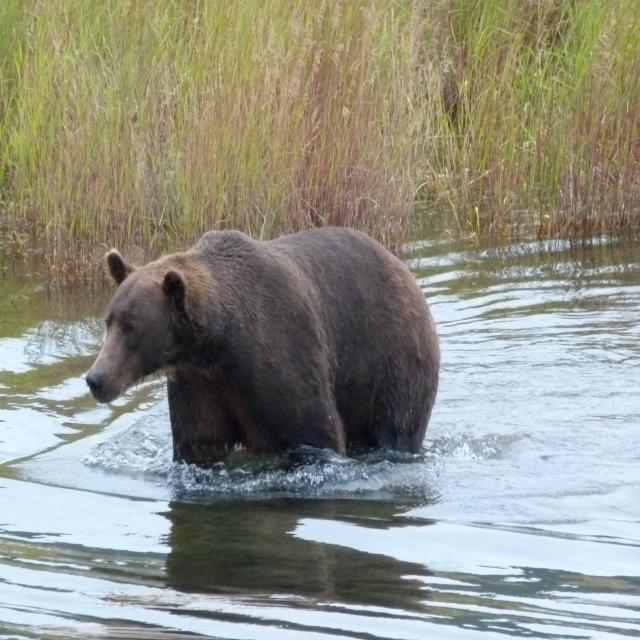bear face: (89, 228, 439, 455)
